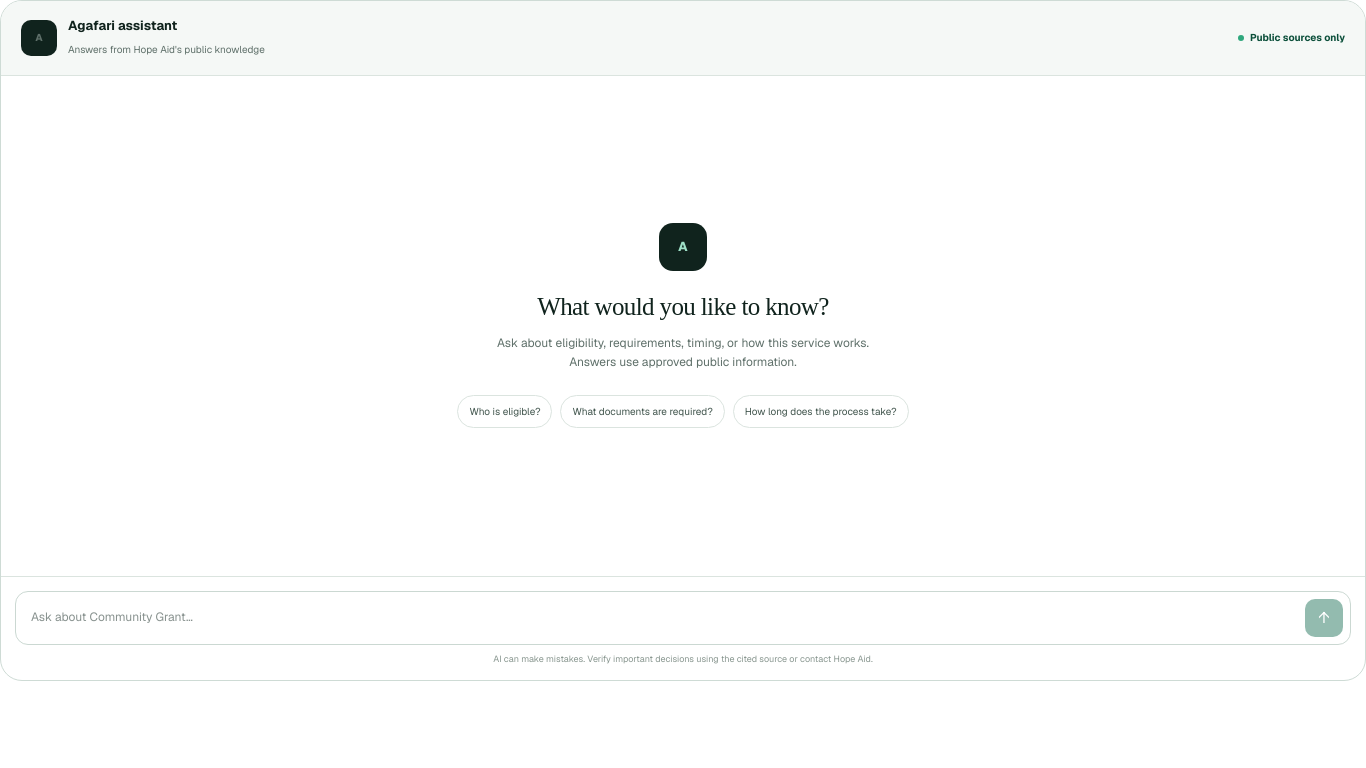
PublicChat › renders a grounded answer, citation, and feedback state
Click the button "Who is eligible?": (505, 411) [458, 395, 552, 428]
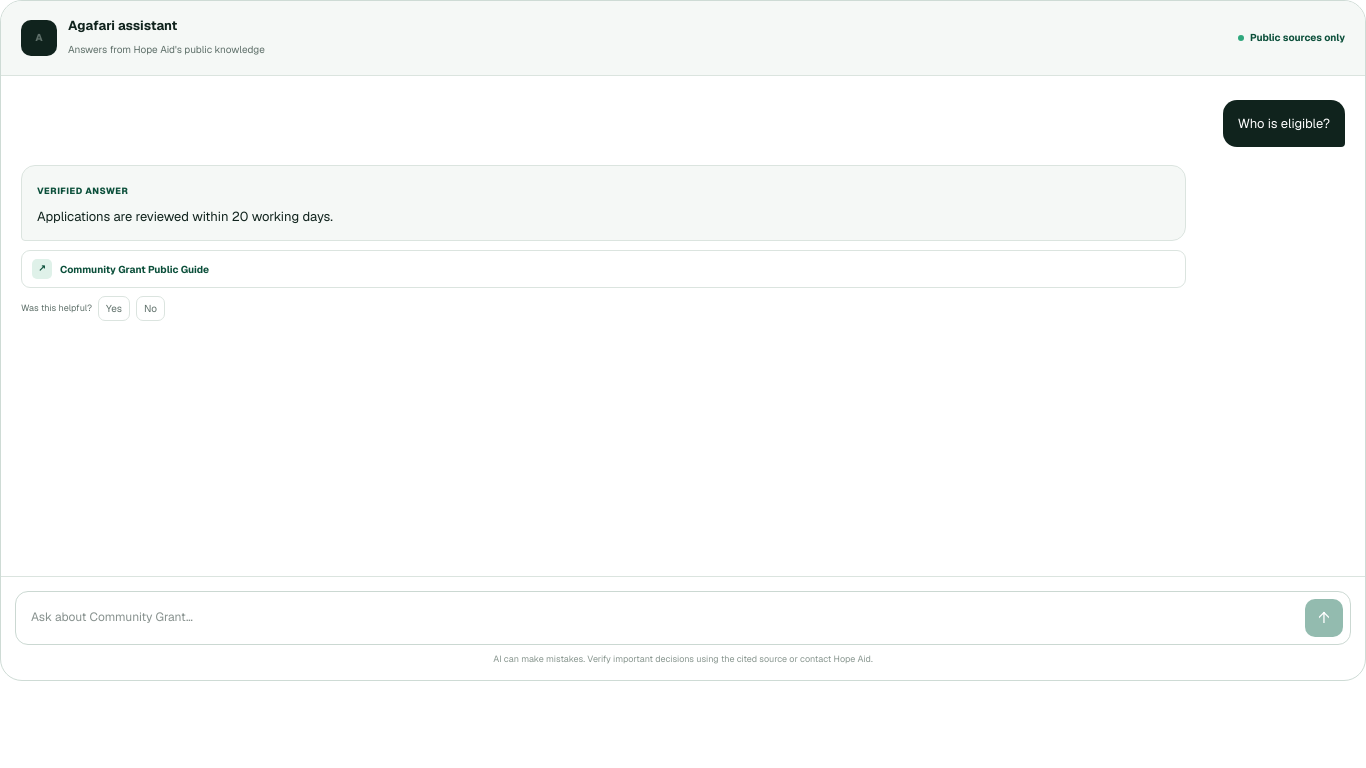
Expected: the text "Verified answer" is shown, [37, 184, 128, 199]
Expected: the text "Applications are reviewed within 20 working days." is shown, [37, 208, 333, 225]
Click the button with aria-label "Mark answer helpful": (114, 309) [98, 296, 130, 321]
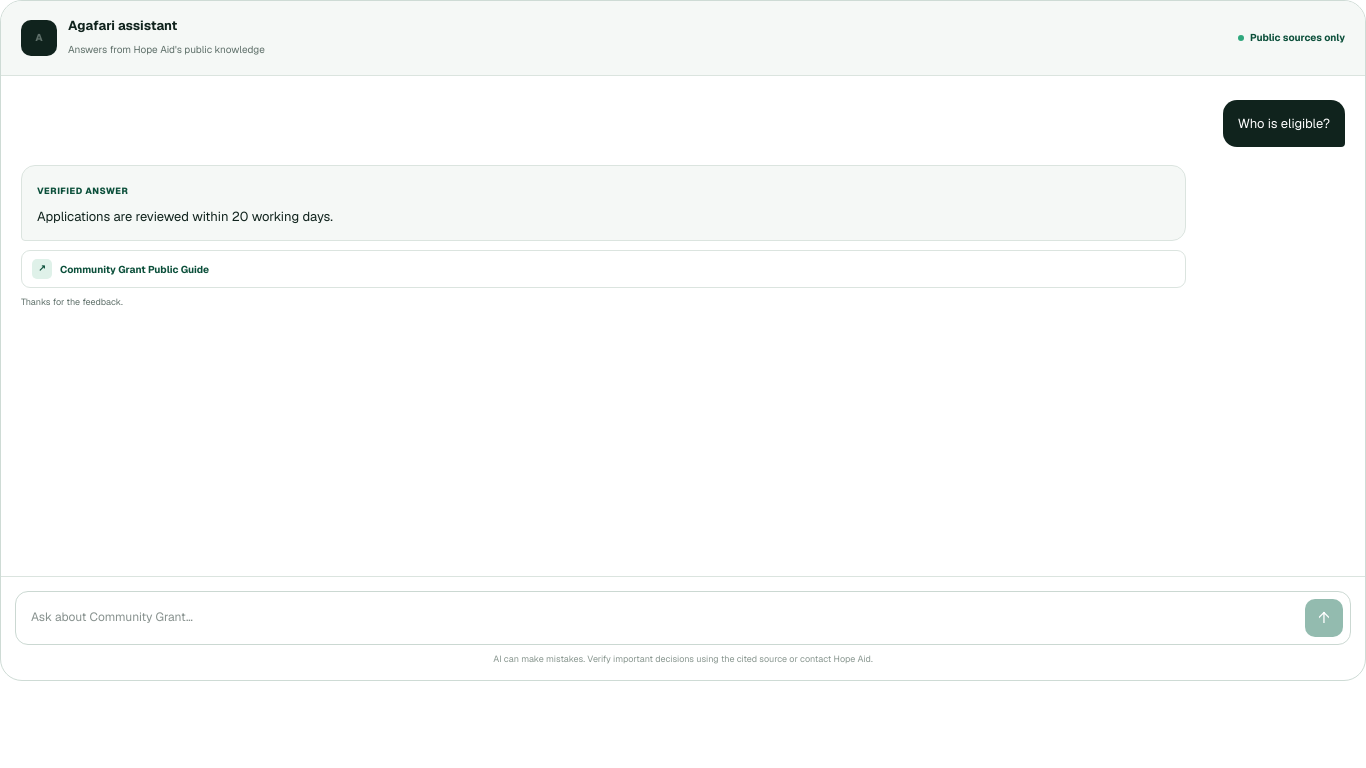
Expected: the text "Thanks for the feedback." is shown, [21, 296, 123, 310]
